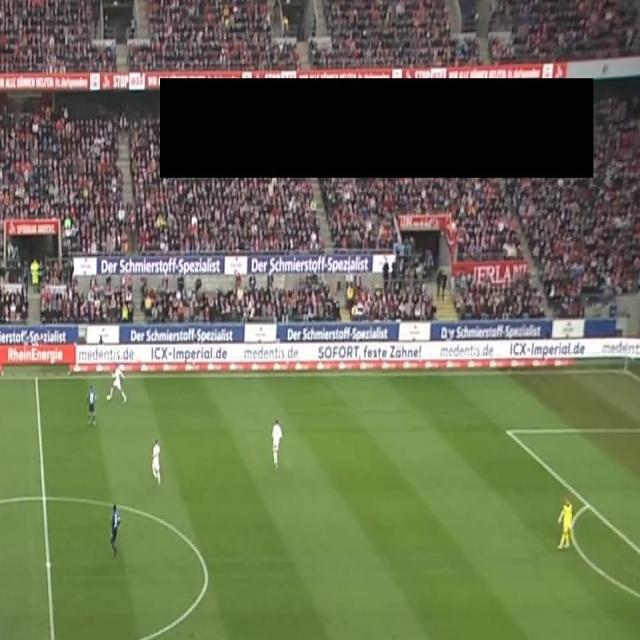ball: (105, 392, 111, 402)
